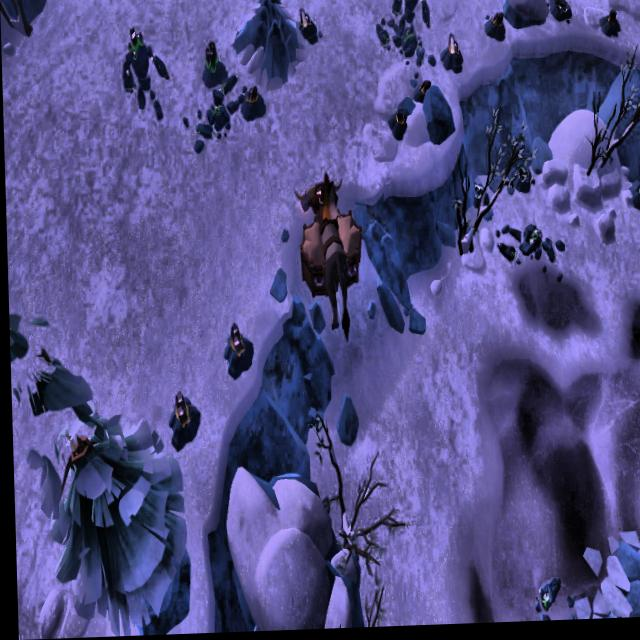ore_t3: (201, 37, 217, 78)
